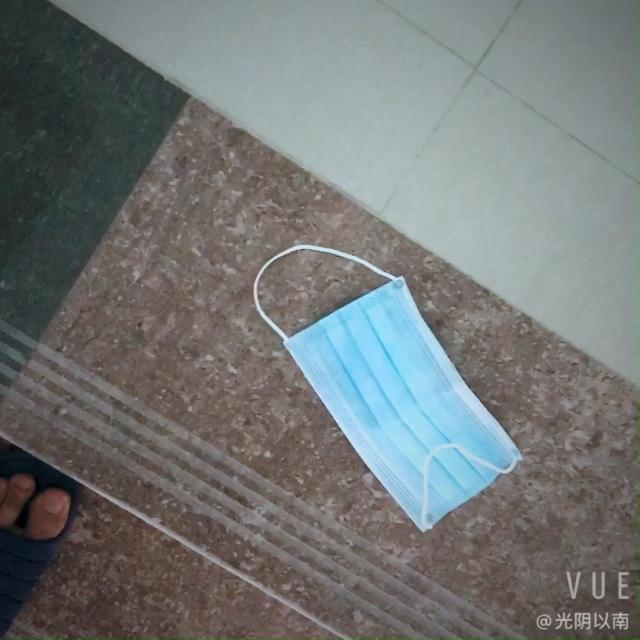non-organic waste: (281, 278, 501, 524)
